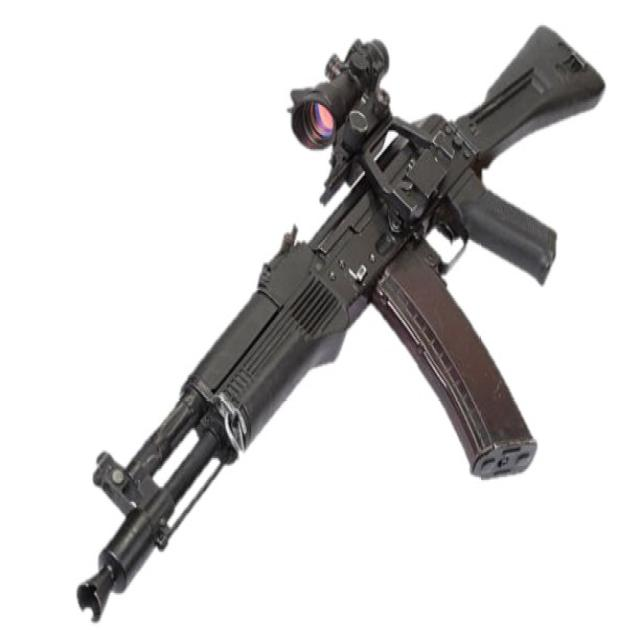rifle: (70, 13, 606, 633)
